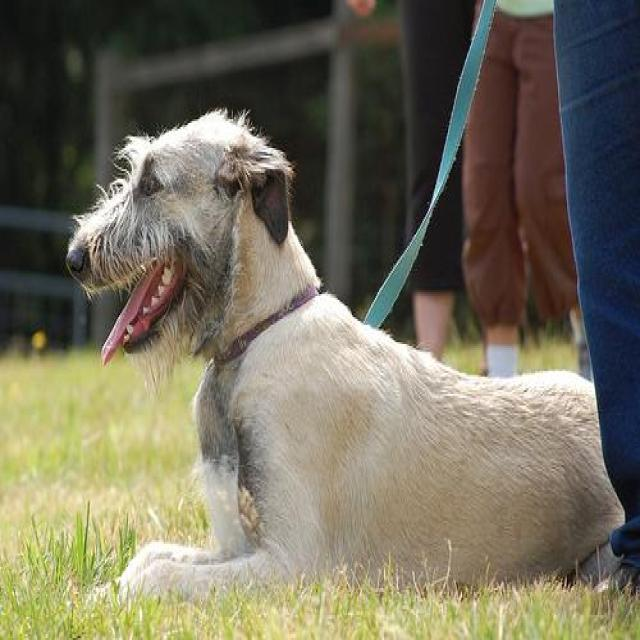irish_wolfhound: (56, 100, 630, 613)
